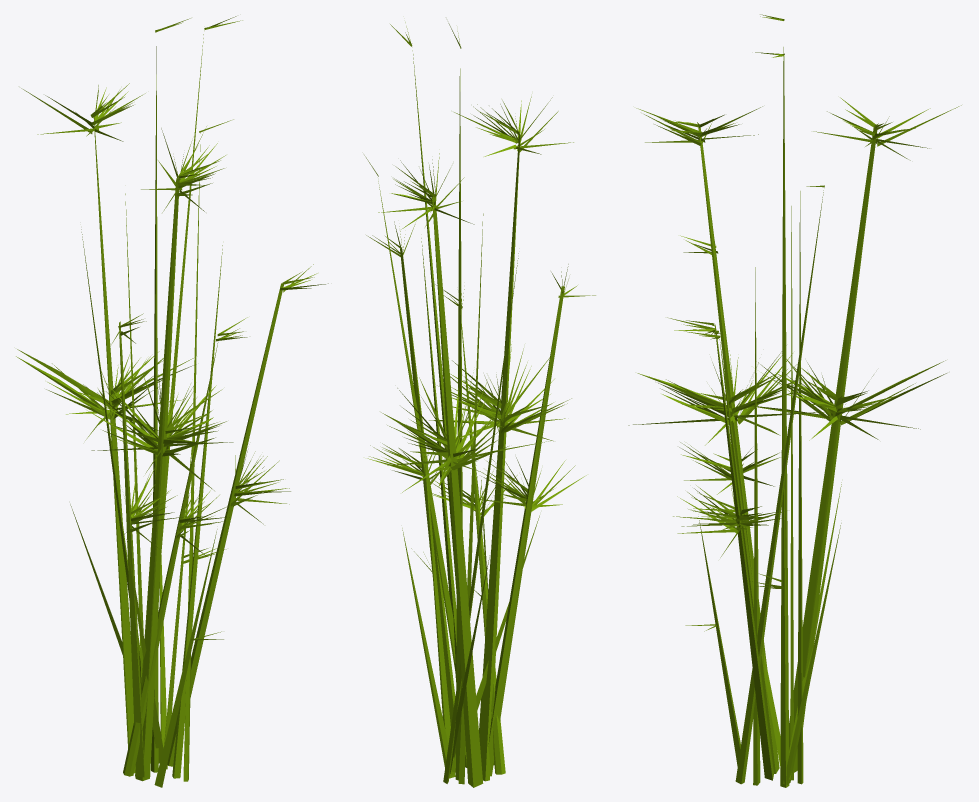
Rendered from nile-papyrus.glb.
The picture shows the model from 3 angles, left to right: view 1: azimuth 30°, elevation 25°; view 2: azimuth 150°, elevation 25°; view 3: azimuth 270°, elevation 25°; orthographic projection. The views are drawn at different scales.
Parts seen in each view (by area): view 1: group_5_Color_F16_0; view 2: group_5_Color_F16_0; view 3: group_5_Color_F16_0.
Boxes of the visible parts, left/top/right/bottom form: group_5_Color_F16_0: left=16, top=16, right=328, bottom=787; group_5_Color_F16_0: left=364, top=22, right=595, bottom=787; group_5_Color_F16_0: left=628, top=14, right=961, bottom=787.
Size of the model in its own units: 5.5 by 18 by 7.1.
